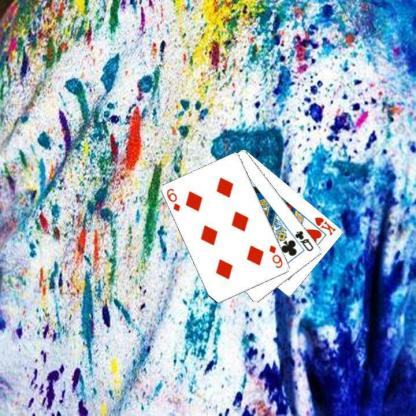6D: (266, 242, 284, 270), (164, 186, 182, 212)
KH: (312, 214, 337, 237)
QC: (292, 228, 315, 253)
